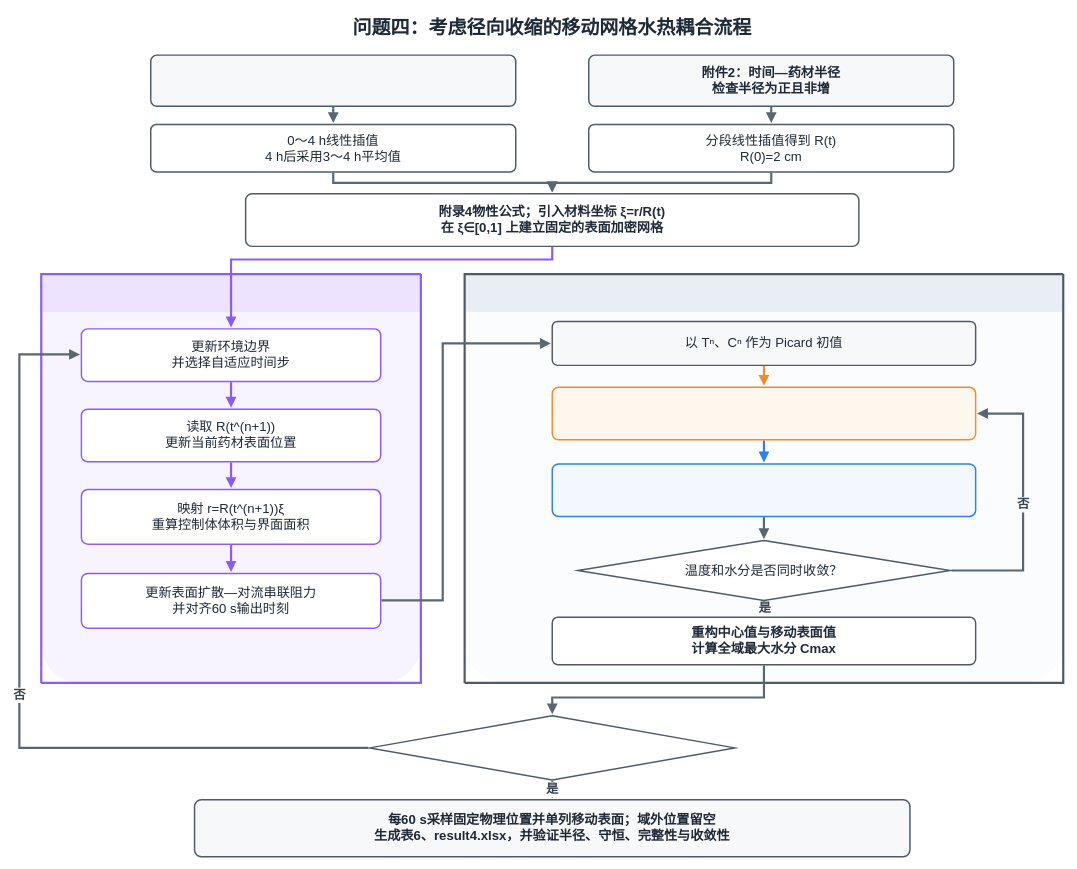
Image size: 1077x869. Some labels were removed from this diagram. The shapes that lost their labels are listed below. From the top down, each one's centre as x and y in pixels, then its label:
At point 333,80: "附件1：烘房温度与水分 构造4 h前后环境边界".
At point 230,293: "移动半径与物理网格更新".
At point 763,293: "当前收缩网格上的水热耦合求解".
At point 763,413: "按附录4由 C 更新 ρ、cp、k 在动态控制体上隐式求温度".
At point 763,490: "由 T、C 更新 D(T,C) 在动态控制体上隐式求水分".
At point 552,747: "max C(r,t) < 0.15 kg/kg？".
